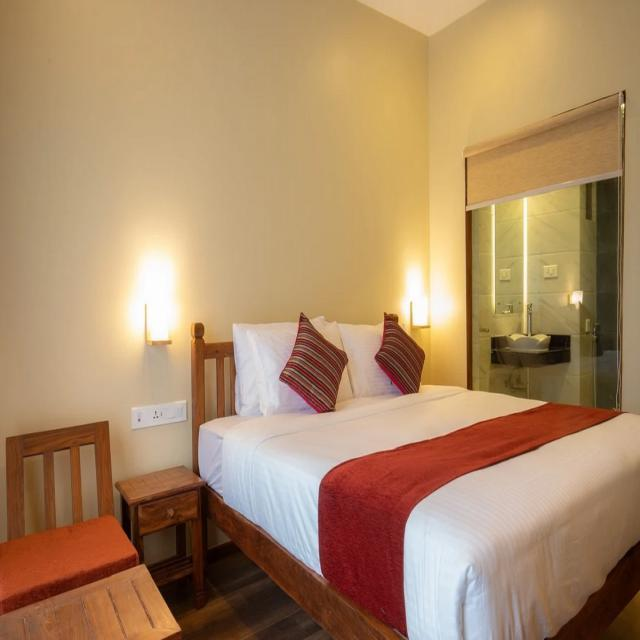bed: (190, 316, 640, 639)
